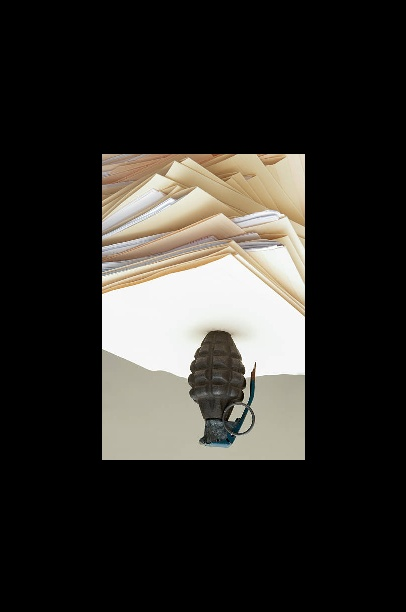e1: (187, 329, 263, 447)
